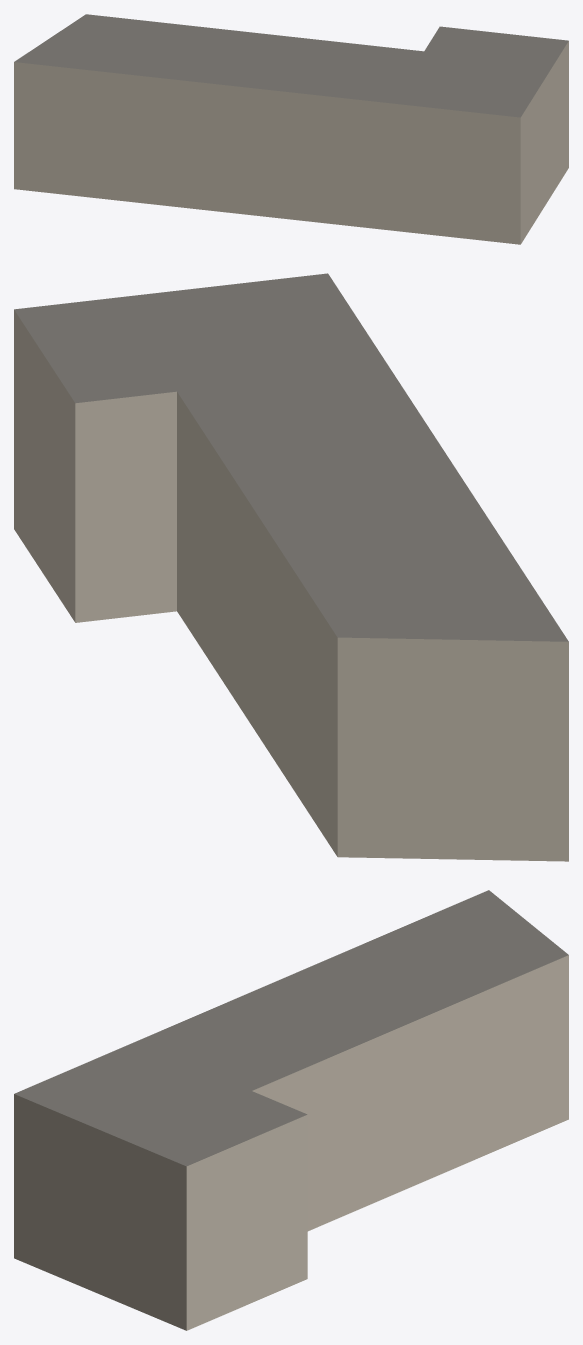
3 renders of one model, top to bottom at view 1: azimuth 30°, elevation 25°; view 2: azimuth 150°, elevation 25°; view 3: azimuth 270°, elevation 25°, orthographic. The views are drawn at different scales.
Parts seen in each view (by area): view 1: HP-w1286965416; view 2: HP-w1286965416; view 3: HP-w1286965416.
Part boxes in pixels (box(x1,y1,x2,y2)): HP-w1286965416: box(14, 14, 568, 244); HP-w1286965416: box(14, 273, 568, 861); HP-w1286965416: box(14, 890, 568, 1330).
Size of the model in its own units: 64.89 by 18 by 55.05.
